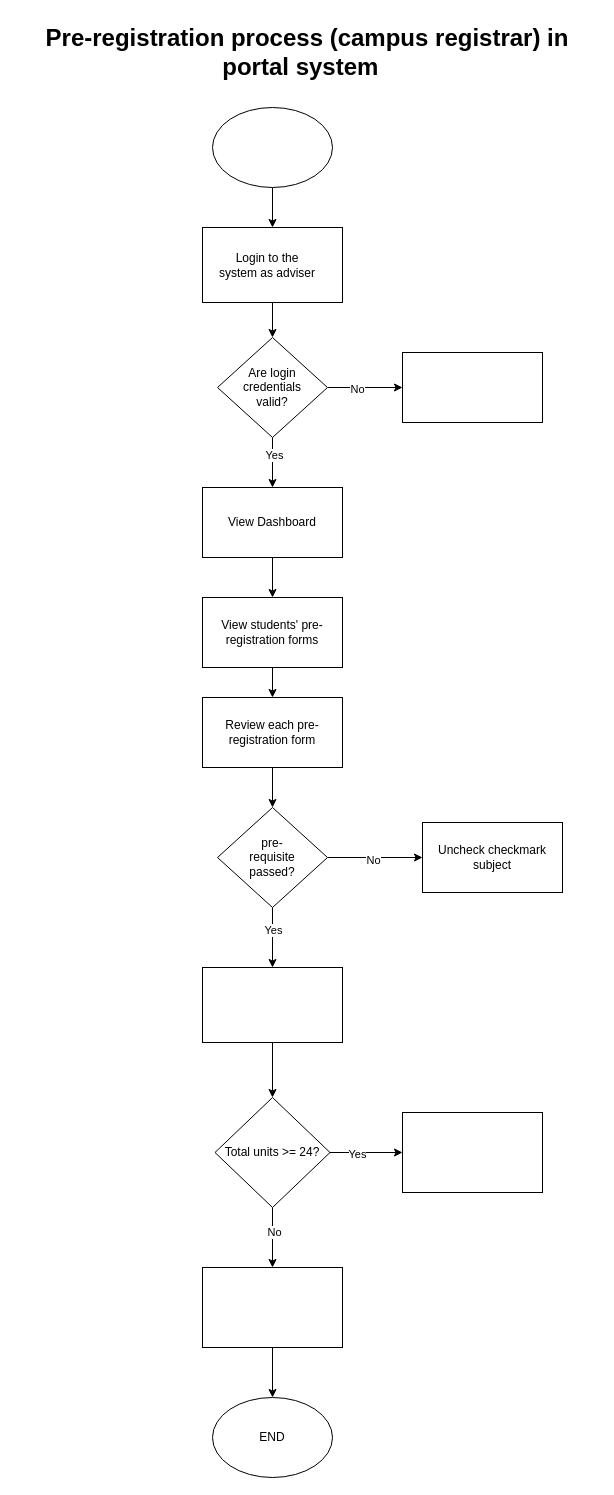
This 614x1495 diagram has some shape labels left out. Each missing label, with the box of its shape:
Approve pre-registration form: (202, 1266, 342, 1348)
Display error message and disable submit button: (402, 1112, 542, 1192)
Place checkmark subject: (202, 966, 342, 1042)
Show error message: "Incorrect username/password": (402, 352, 542, 422)
START: (212, 106, 332, 188)
